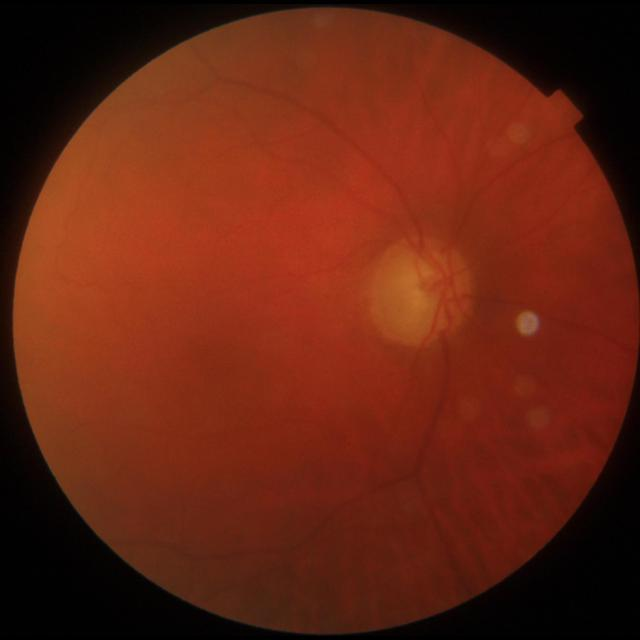OC: (405, 266, 442, 302)
OD: (370, 239, 475, 345)
